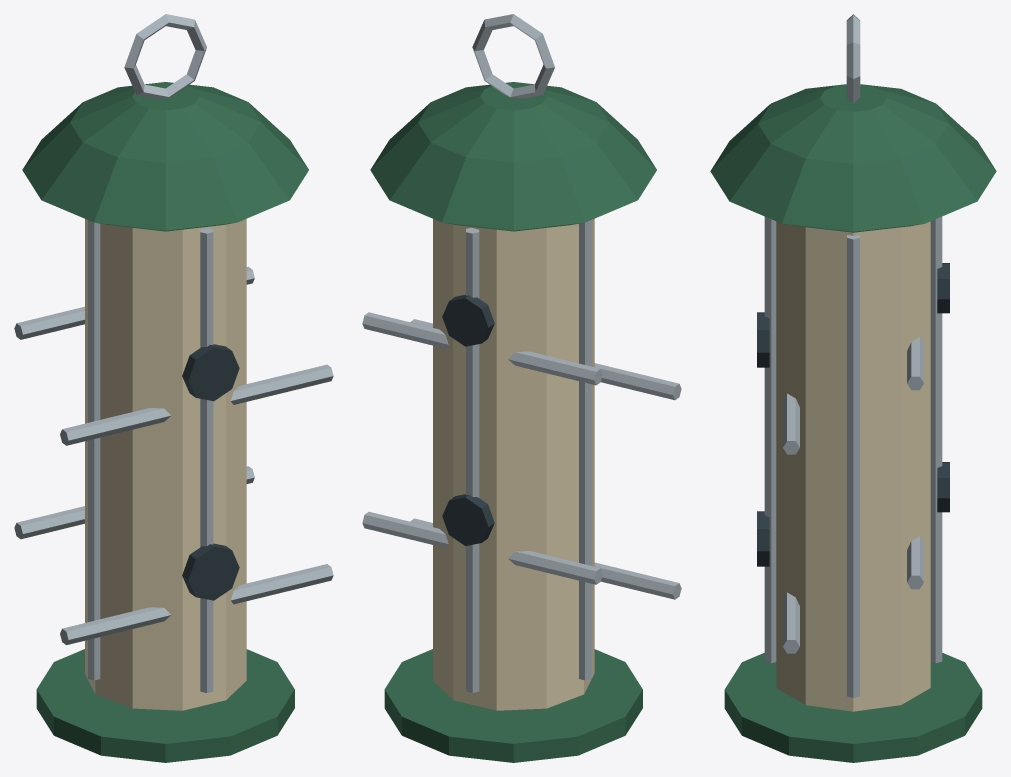
Rendered from b11_hanging_tube_seed_feeder.glb.
The picture shows the model from 3 angles, left to right: view 1: azimuth 30°, elevation 25°; view 2: azimuth 150°, elevation 25°; view 3: azimuth 270°, elevation 25°; orthographic projection.
Visible parts, largest first — view 1: b11_hanging_tube_seed_feeder; view 2: b11_hanging_tube_seed_feeder; view 3: b11_hanging_tube_seed_feeder.
Part boxes in pixels (left/top/right/bottom): b11_hanging_tube_seed_feeder: left=14, top=14, right=333, bottom=762; b11_hanging_tube_seed_feeder: left=362, top=14, right=681, bottom=762; b11_hanging_tube_seed_feeder: left=710, top=14, right=996, bottom=762.
Bounding box in the file's own units: 0.32 × 0.801 × 0.3.
